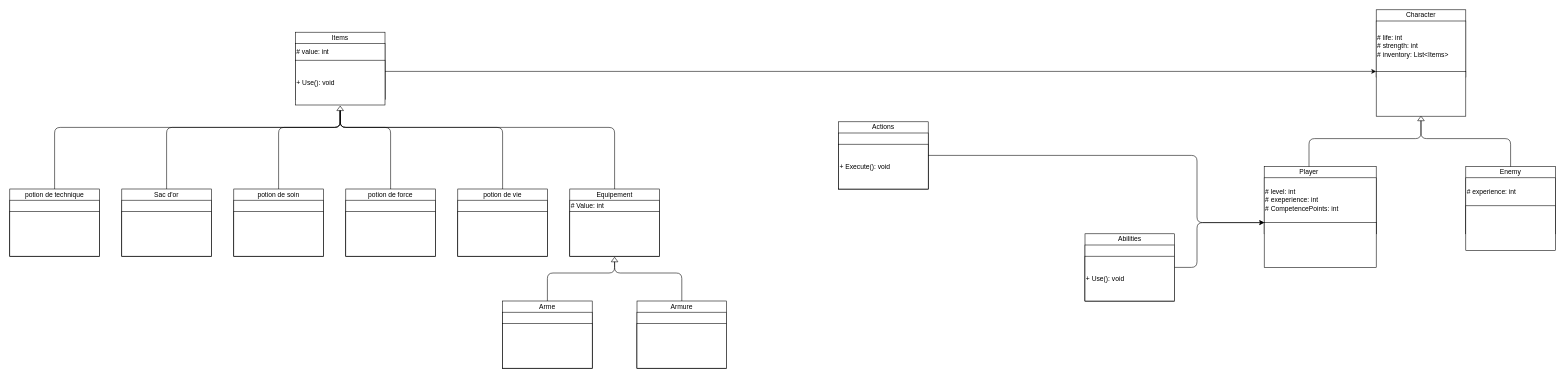
The diagram is 1565 pixels wide and 378 high, and some of its shapes have lost their labels. Each missing label, with the centre of its shape:
+ AddItem(Items): void + RemoveItem(Items): void + Attack(Character): void: (1421,93)
+ Equip(): void: (614,233)
